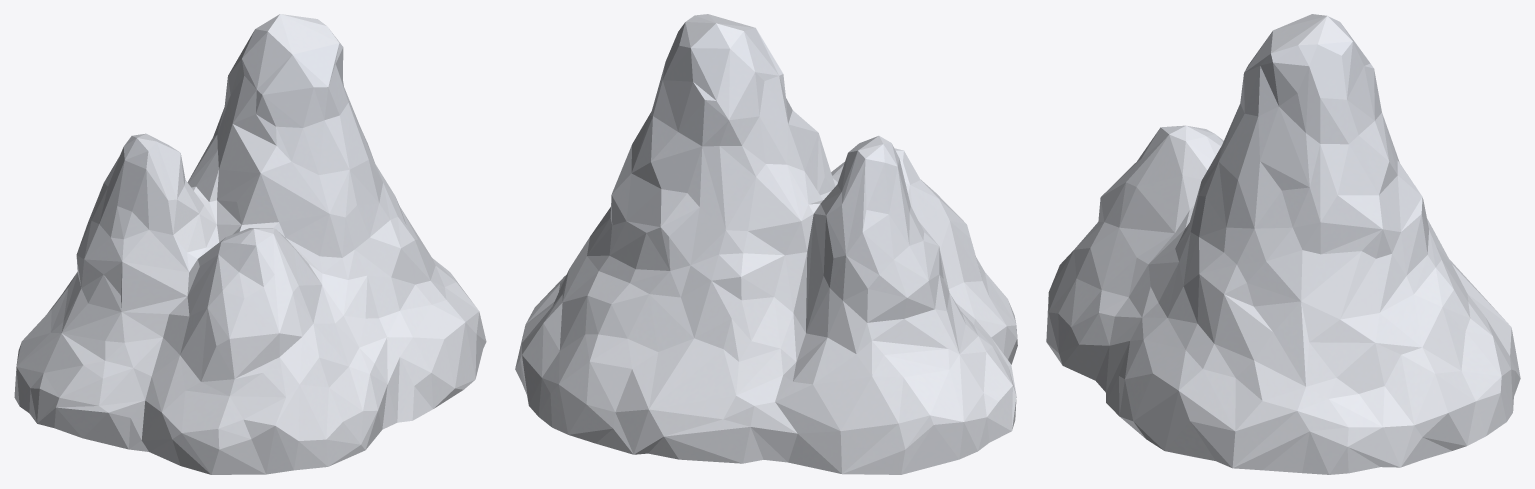
The model's file is Mountain_2B.fbx.
3 views of the same model, side by side, from view 1: azimuth 30°, elevation 25°; view 2: azimuth 150°, elevation 25°; view 3: azimuth 270°, elevation 25° (orthographic). The views are drawn at different scales.
Visible parts, largest first — view 1: Group64596; view 2: Group64596; view 3: Group64596.
Part boxes in pixels (x1,y1,x2,y2): Group64596: (14, 14, 486, 474); Group64596: (515, 14, 1017, 474); Group64596: (1046, 14, 1520, 474).
Bounding box in the file's own units: 61.33 × 46.33 × 53.54.
1 material, 1 textured.
